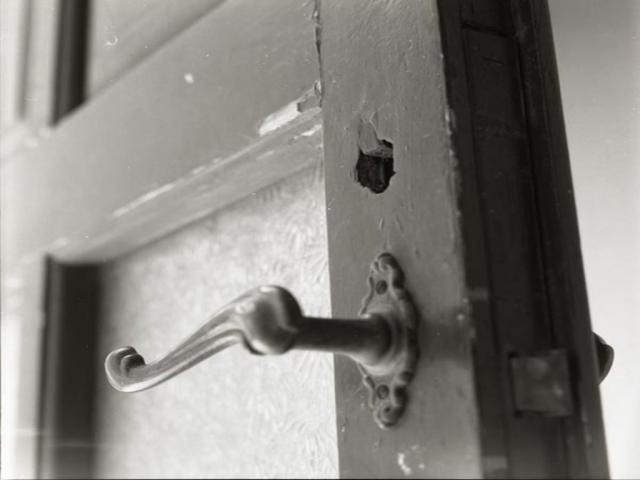Door-handle: (101, 250, 422, 430), (592, 329, 614, 383)
